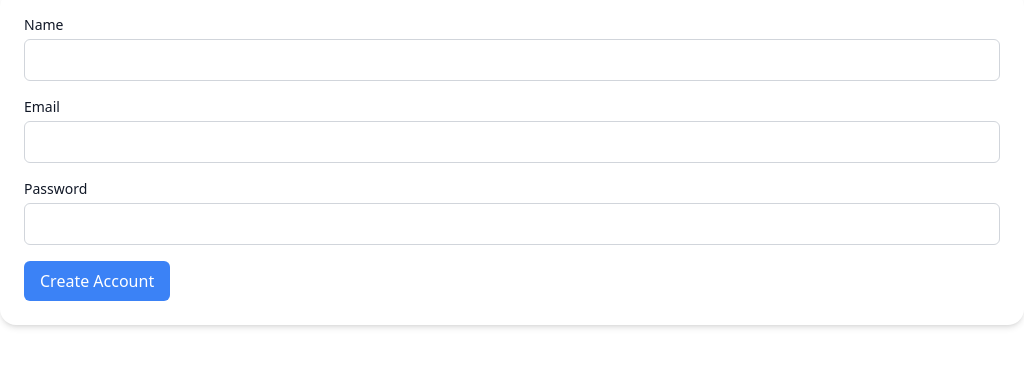
Test: SignupForm › shows error message on failure
The width and height of the screenshot is (1024, 386).
Step 1. Type "Jane" into the field labelled "Name" → (512, 60), box [24,39,1000,81]
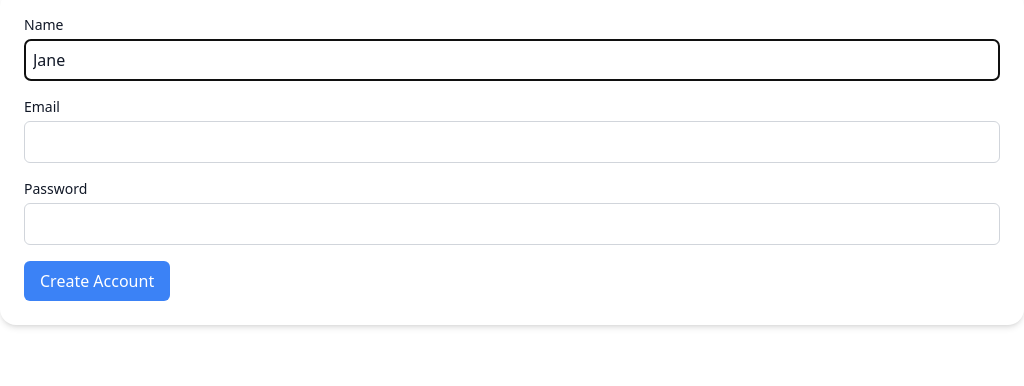
Step 2. Type "jane@example.com" into the field labelled "Email" → (512, 142), box [24,121,1000,163]
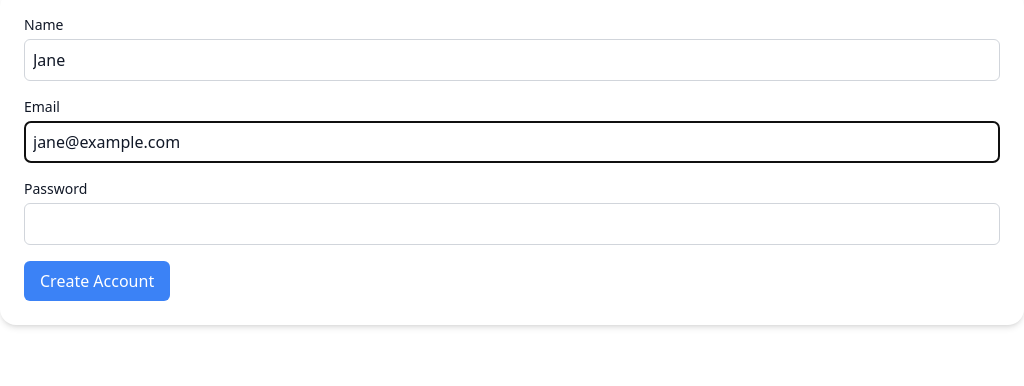
Step 3. Type "secret" into the password field labelled "Password" → (512, 224), box [24,203,1000,245]
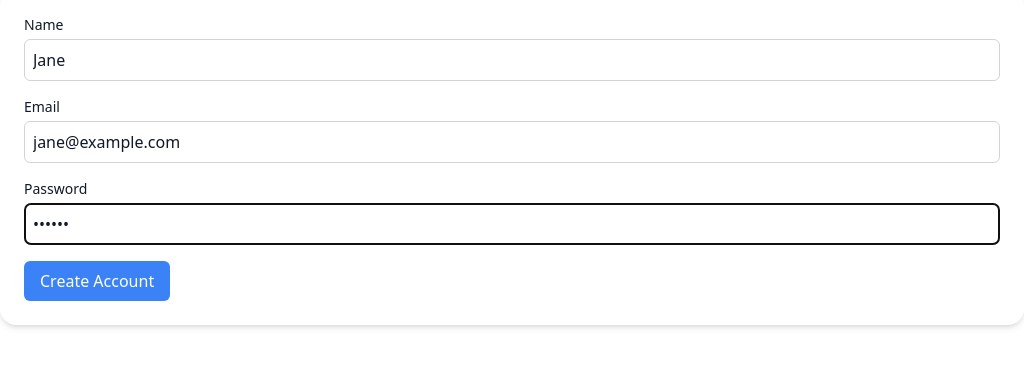
Step 4. Click the button "Create Account" → (97, 281), box [24,261,170,301]
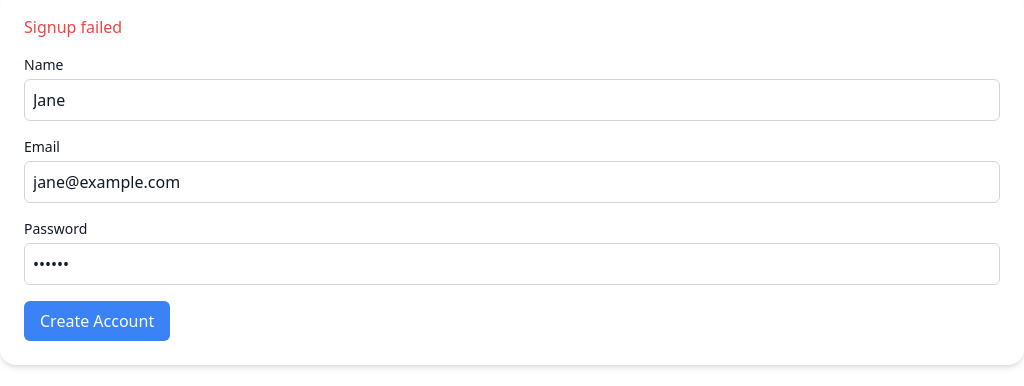
expect the message reads "Signup failed": met, box [24,16,122,38]
